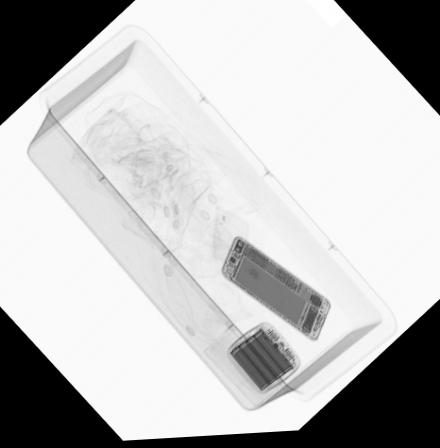Powerbank: (222, 325, 302, 400)
